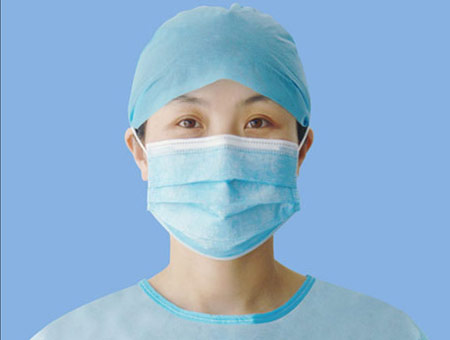face_mask: (147, 88, 301, 262)
